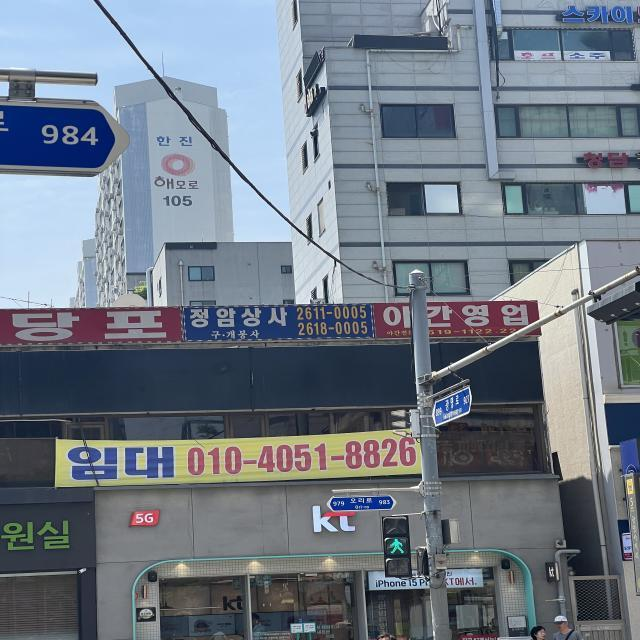geen-crossing: (382, 519, 416, 577)
